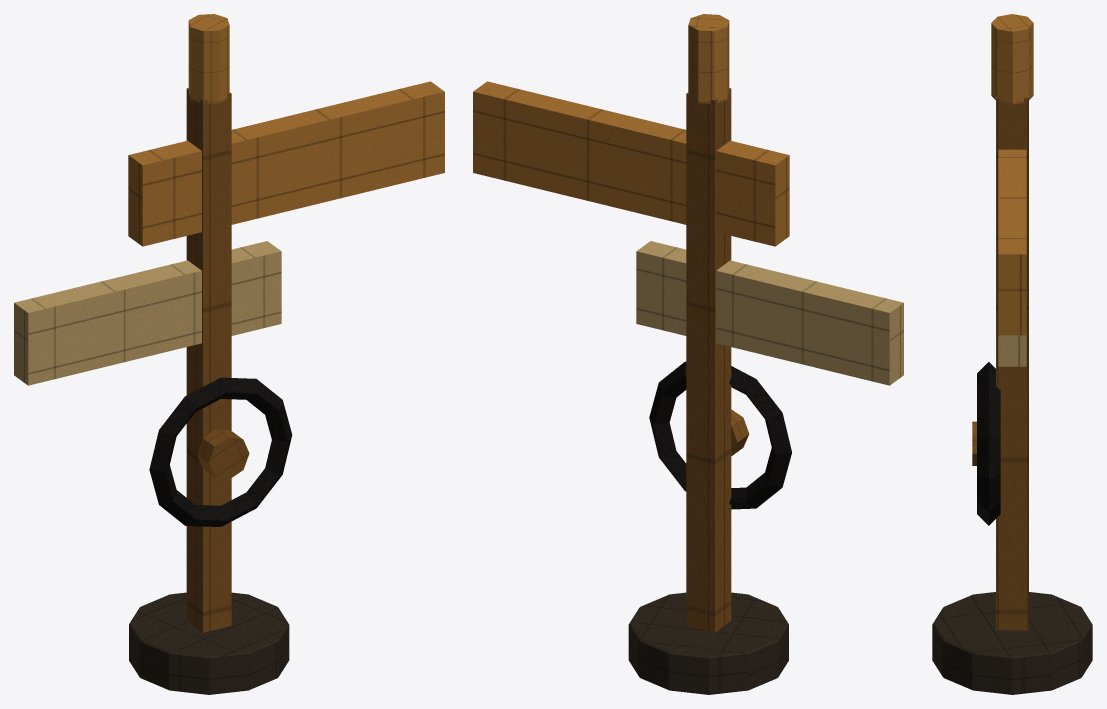
Rendered from road-marker.e4.glb.
3 views of the same model, side by side, from view 1: azimuth 30°, elevation 25°; view 2: azimuth 150°, elevation 25°; view 3: azimuth 270°, elevation 25° (orthographic).
Visible parts, largest first — view 1: RoadMarkerE4; view 2: RoadMarkerE4; view 3: RoadMarkerE4.
Boxes of the visible parts, x1,y1,x2,y2 form: RoadMarkerE4: [14, 14, 444, 694]; RoadMarkerE4: [473, 14, 903, 694]; RoadMarkerE4: [932, 14, 1092, 694].
Size of the model in its own units: 2.04 by 2.99 by 0.68.
Materials: 1 (1 with a texture image).
